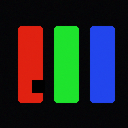1 square: (32, 80, 44, 92)
